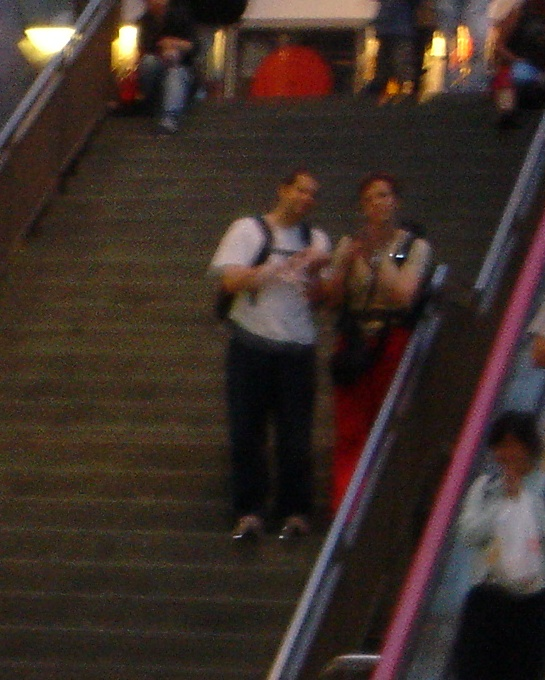person: (222, 164, 329, 545)
